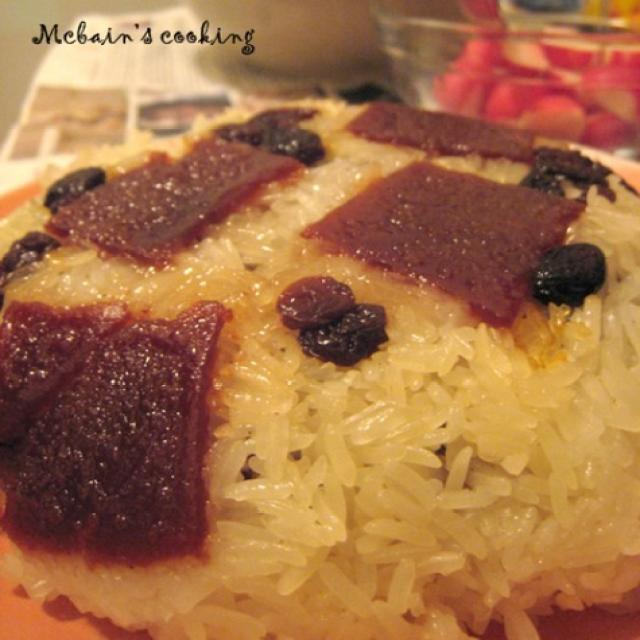米饭主食: (5, 43, 624, 629)
